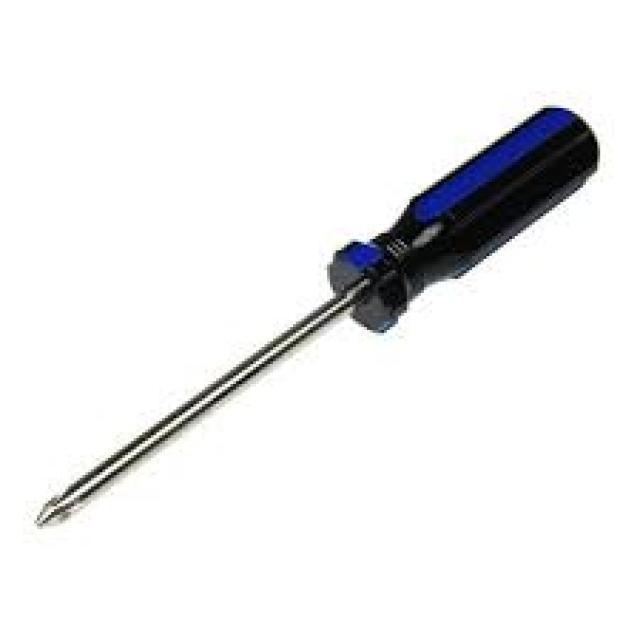screwdriver: (29, 102, 604, 532)
